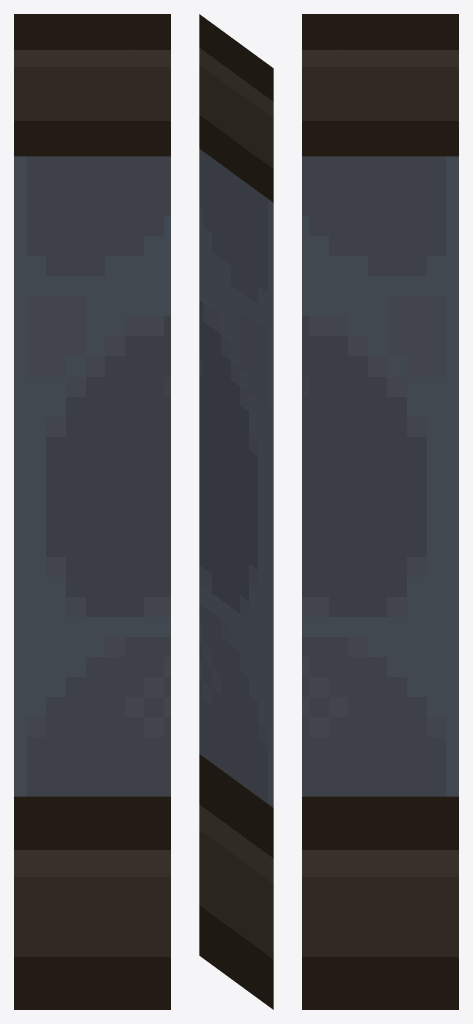
3 renders of one model, left to right at view 1: azimuth 90°, elevation 25°; view 2: azimuth 210°, elevation 25°; view 3: azimuth 270°, elevation 25°, orthographic. The views are drawn at different scales.
Bounding box in the file's own units: 0 × 3.5 × 0.5.
2 materials, 2 textured.
